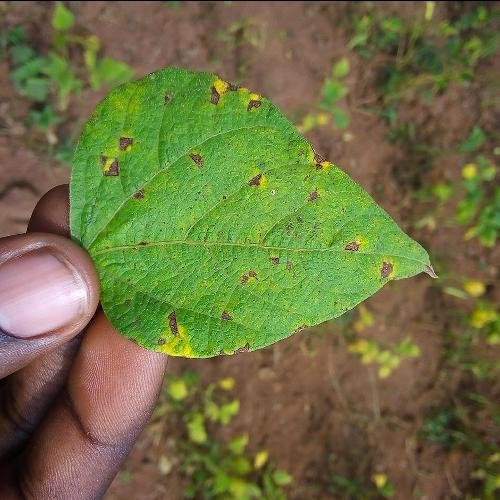hawar: (100, 130, 326, 322), (341, 226, 403, 280), (202, 84, 266, 118)
